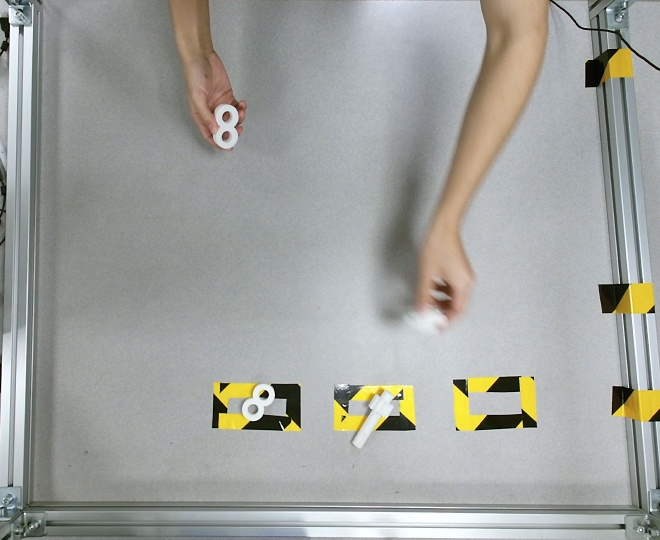stage_1: (213, 105, 239, 148)
